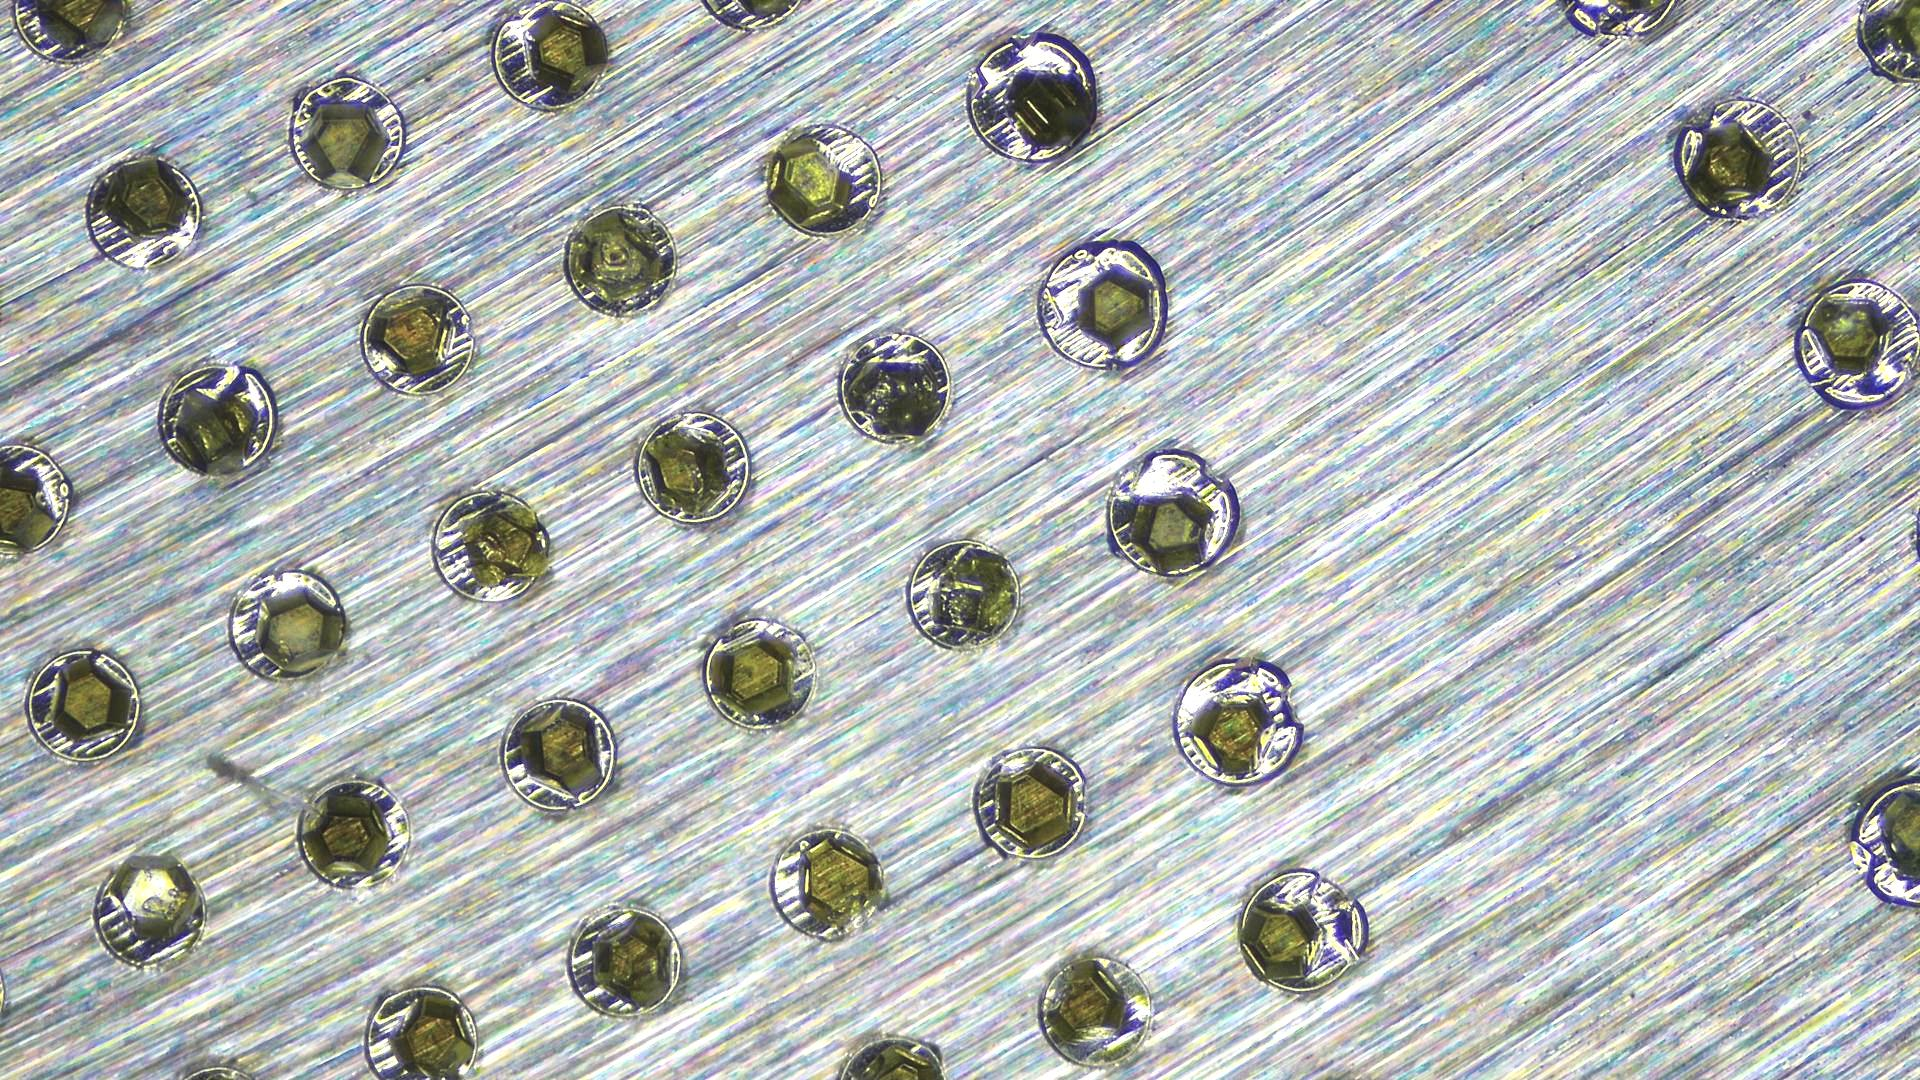break: (430, 480, 560, 610), (552, 198, 681, 327)
twin: (829, 329, 957, 457)
